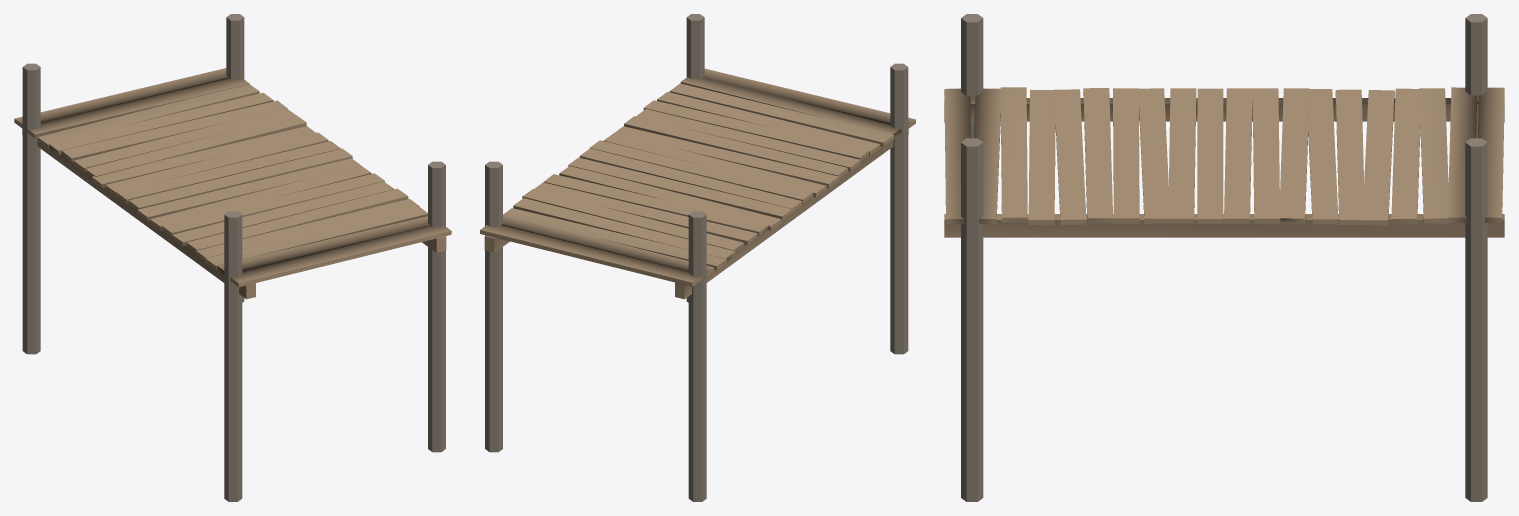
The model's file is dock.glb.
3 views of the same model, side by side, from view 1: azimuth 30°, elevation 25°; view 2: azimuth 150°, elevation 25°; view 3: azimuth 270°, elevation 25° (orthographic). The views are drawn at different scales.
Visible parts, largest first — view 1: dock; view 2: dock; view 3: dock.
Boxes of the visible parts, x1,y1,x2,y2 form: dock: [14, 14, 451, 501]; dock: [480, 14, 915, 501]; dock: [944, 14, 1504, 501].
Bounding box in the file's own units: 2.24 × 2.8 × 4.
